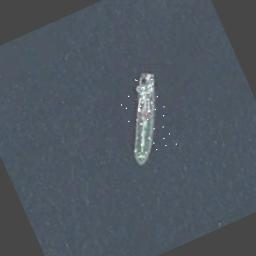boat: (104, 68, 184, 166)
